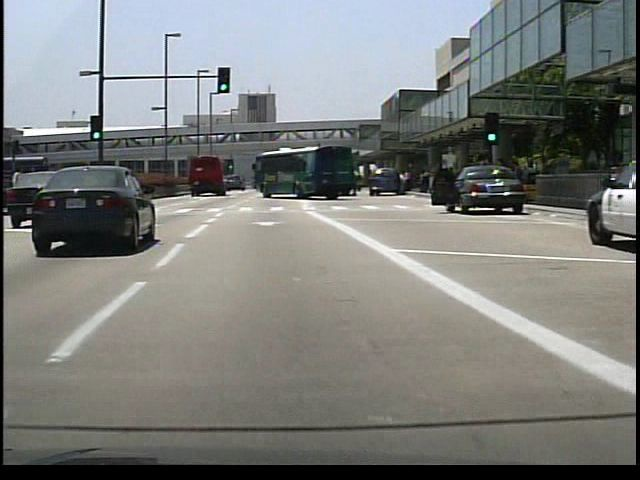person: (395, 168, 406, 194)
